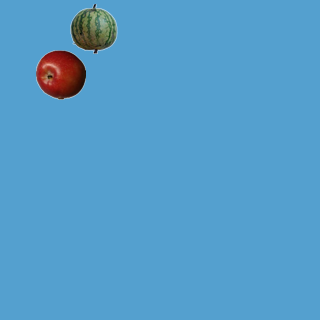Apple Braeburn: (35, 49, 85, 99)
Watermelon: (68, 3, 118, 53)
